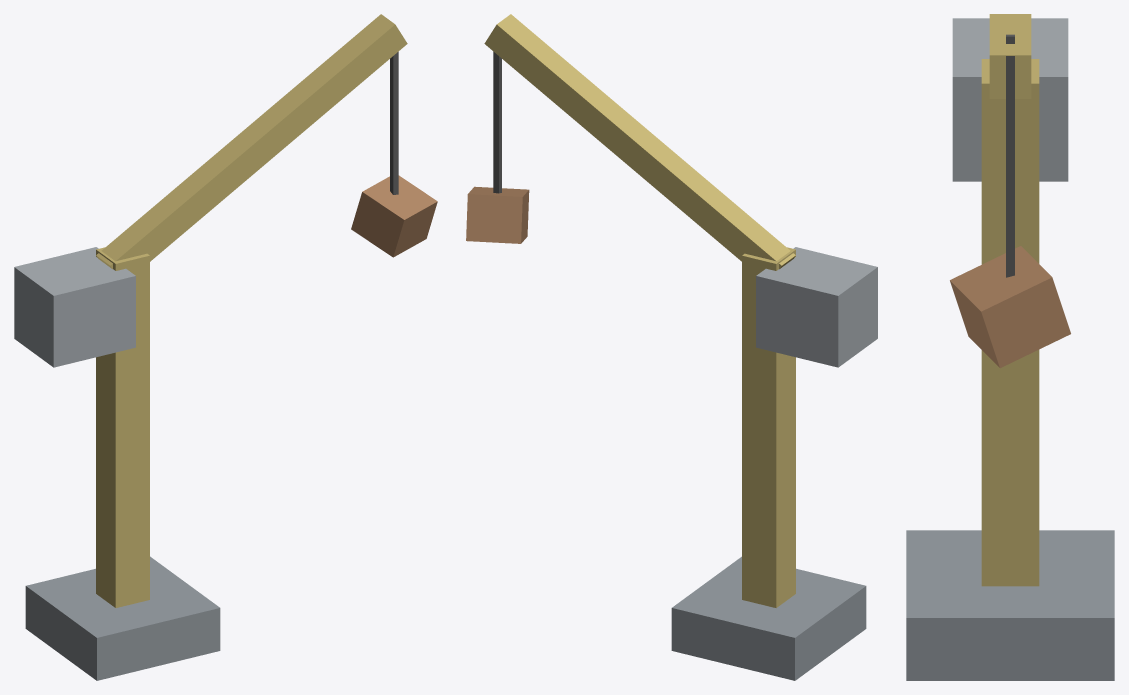
Rendered from valak_guindaste_1.glb.
3 renders of one model, left to right at view 1: azimuth 30°, elevation 25°; view 2: azimuth 150°, elevation 25°; view 3: azimuth 270°, elevation 25°, orthographic. The views are drawn at different scales.
Parts seen in each view (by area): view 1: guindaste; view 2: guindaste; view 3: guindaste.
Part boxes in pixels (box(x1,y1,x2,y2)): guindaste: box(14, 14, 437, 680); guindaste: box(466, 14, 877, 680); guindaste: box(906, 14, 1114, 680).
Bounding box in the file's own units: 2.87 × 3.88 × 0.9.
